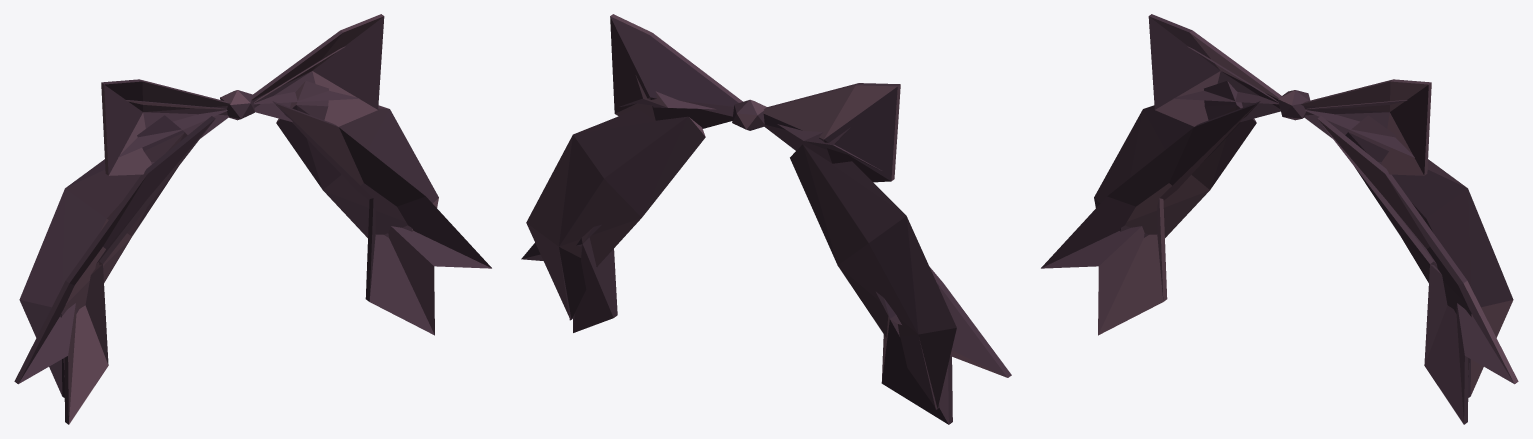
File: back_sash.glb
3 renders of one model, left to right at view 1: azimuth 30°, elevation 25°; view 2: azimuth 150°, elevation 25°; view 3: azimuth 330°, elevation 25°, orthographic. The views are drawn at different scales.
Visible parts, largest first — view 1: Back sash • long tail.R, Back sash • long tail.L, Back sash • tail fold.L, Back sash • tail fold.R, Back sash • loop.R, Back sash • loop.L, Back sash • inner crease.L, Back sash • inner crease.R, Back sash • knot; view 2: Back sash • tail fold.R, Back sash • tail fold.L, Back sash • loop.L, Back sash • loop.R, Back sash • long tail.L, Back sash • long tail.R, Back sash • knot, Back sash • inner crease.L, Back sash • inner crease.R; view 3: Back sash • long tail.L, Back sash • long tail.R, Back sash • tail fold.R, Back sash • tail fold.L, Back sash • loop.L, Back sash • loop.R, Back sash • inner crease.R, Back sash • inner crease.L, Back sash • knot.
Part boxes in pixels (left/top/right/bottom): Back sash • long tail.R: left=272, top=101, right=491, bottom=335; Back sash • long tail.L: left=14, top=116, right=215, bottom=424; Back sash • tail fold.L: left=19, top=115, right=187, bottom=397; Back sash • tail fold.R: left=276, top=81, right=438, bottom=237; Back sash • loop.R: left=251, top=14, right=384, bottom=126; Back sash • loop.L: left=101, top=79, right=229, bottom=175; Back sash • inner crease.L: left=118, top=100, right=227, bottom=157; Back sash • inner crease.R: left=254, top=46, right=359, bottom=104; Back sash • knot: left=220, top=90, right=254, bottom=120; Back sash • tail fold.R: left=526, top=109, right=705, bottom=320; Back sash • tail fold.L: left=790, top=144, right=956, bottom=409; Back sash • loop.L: left=763, top=83, right=900, bottom=182; Back sash • loop.R: left=610, top=14, right=742, bottom=128; Back sash • long tail.L: left=876, top=267, right=1011, bottom=424; Back sash • long tail.R: left=521, top=224, right=617, bottom=332; Back sash • knot: left=732, top=99, right=766, bottom=130; Back sash • inner crease.L: left=777, top=124, right=881, bottom=170; Back sash • inner crease.R: left=619, top=75, right=715, bottom=109; Back sash • long tail.L: left=1041, top=101, right=1260, bottom=335; Back sash • long tail.R: left=1317, top=116, right=1518, bottom=424; Back sash • tail fold.R: left=1345, top=115, right=1513, bottom=397; Back sash • tail fold.L: left=1094, top=81, right=1256, bottom=237; Back sash • loop.L: left=1148, top=14, right=1281, bottom=126; Back sash • loop.R: left=1301, top=79, right=1431, bottom=175; Back sash • inner crease.R: left=1305, top=100, right=1414, bottom=157; Back sash • inner crease.L: left=1173, top=46, right=1278, bottom=104; Back sash • knot: left=1278, top=90, right=1310, bottom=120.
Bounding box in the file's own units: 3.51 × 2.29 × 0.4063.
